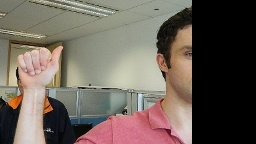Pugno: (12, 46, 66, 87)
